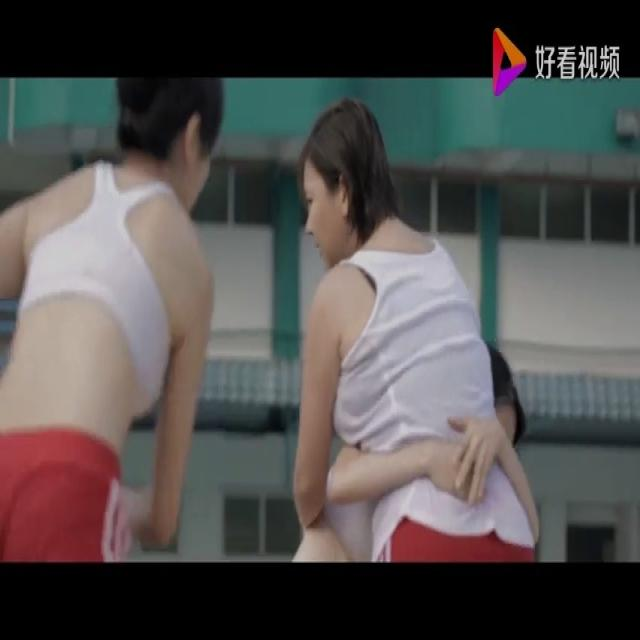fight: (283, 75, 586, 564)
non-fight: (0, 76, 229, 561)
